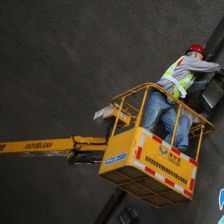helmet: (184, 40, 208, 68)
